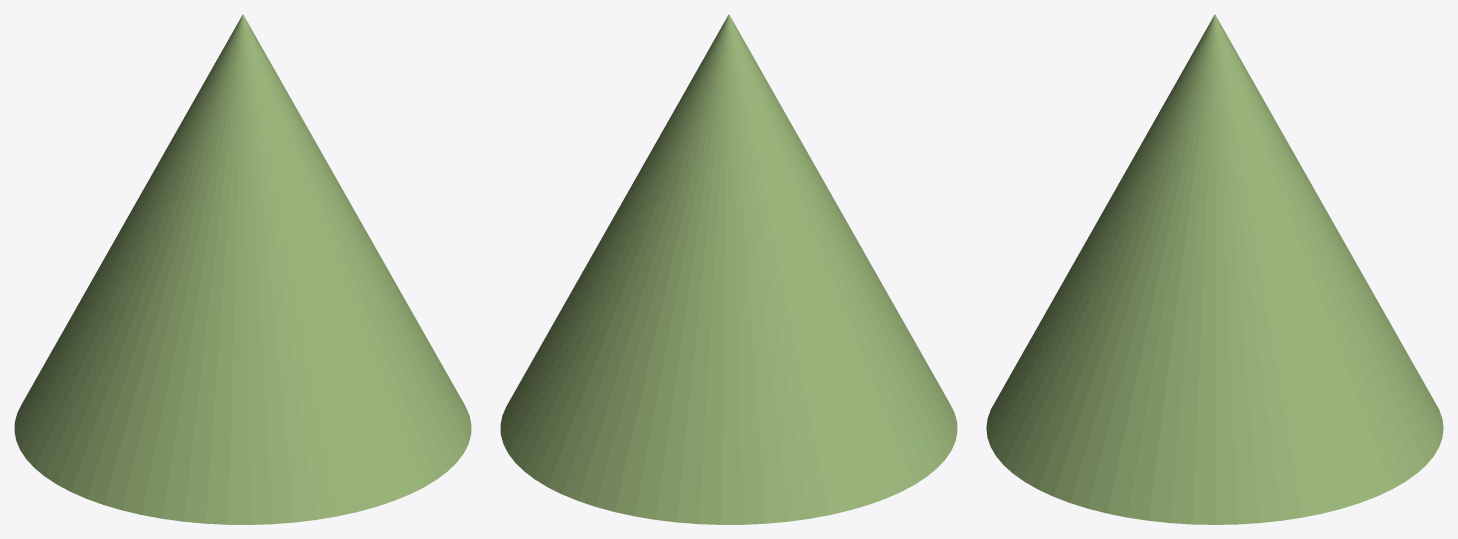
3 views of the same model, side by side, from view 1: azimuth 30°, elevation 25°; view 2: azimuth 150°, elevation 25°; view 3: azimuth 270°, elevation 25° (orthographic).
Visible parts, largest first — view 1: Cone.005; view 2: Cone.005; view 3: Cone.005.
Part boxes in pixels (x1,y1,x2,y2): Cone.005: [14, 14, 471, 524]; Cone.005: [500, 14, 957, 524]; Cone.005: [986, 14, 1443, 524].
Bounding box in the file's own units: 3.88 × 3.88 × 3.88.
